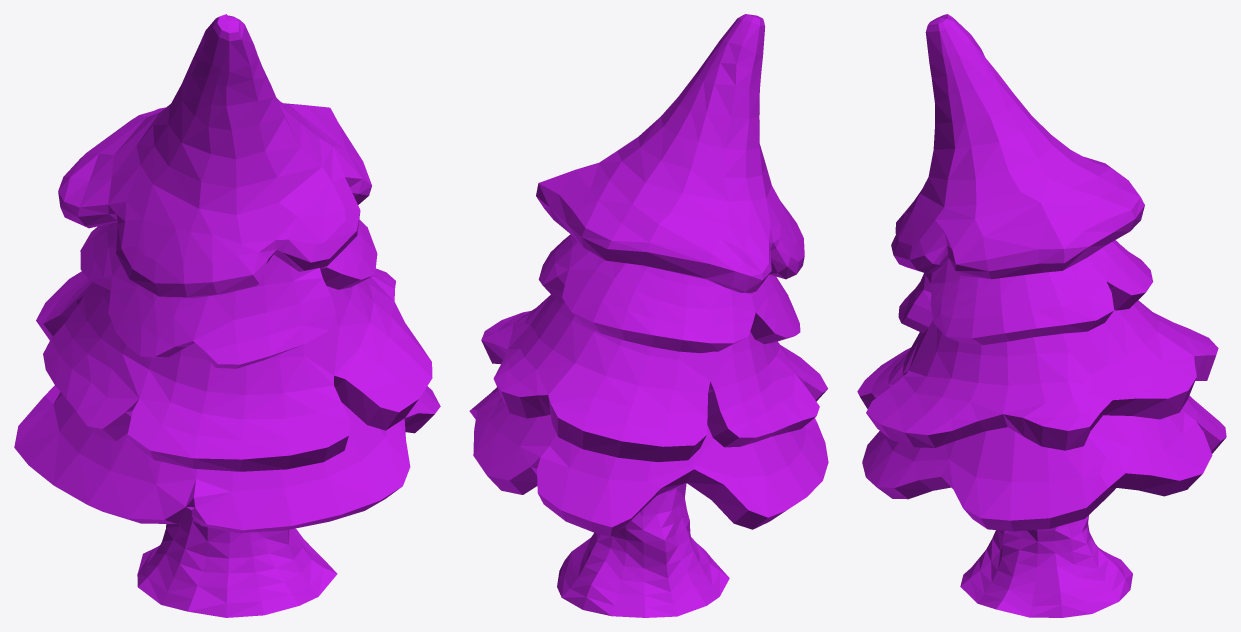
File: meowverse_tree7.glb
3 renders of one model, left to right at view 1: azimuth 30°, elevation 25°; view 2: azimuth 150°, elevation 25°; view 3: azimuth 270°, elevation 25°, orthographic. The views are drawn at different scales.
Visible parts, largest first — view 1: tree1v3.001; view 2: tree1v3.001; view 3: tree1v3.001.
Part boxes in pixels (bbox=[...]): tree1v3.001: bbox=[14, 14, 440, 617]; tree1v3.001: bbox=[469, 14, 828, 617]; tree1v3.001: bbox=[857, 14, 1226, 617].
Size of the model in its own units: 0.3858 by 0.6295 by 0.3895.
